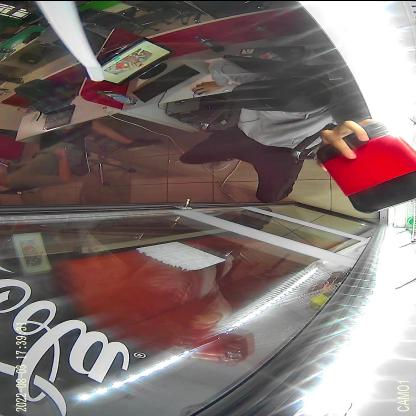red: (315, 121, 416, 212)
